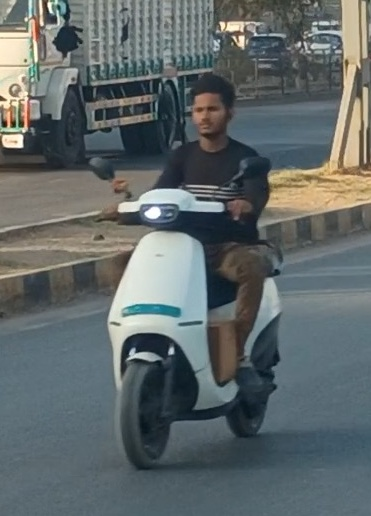BikeWithRider: (83, 63, 315, 481)
NoHelmet: (181, 67, 242, 142)
